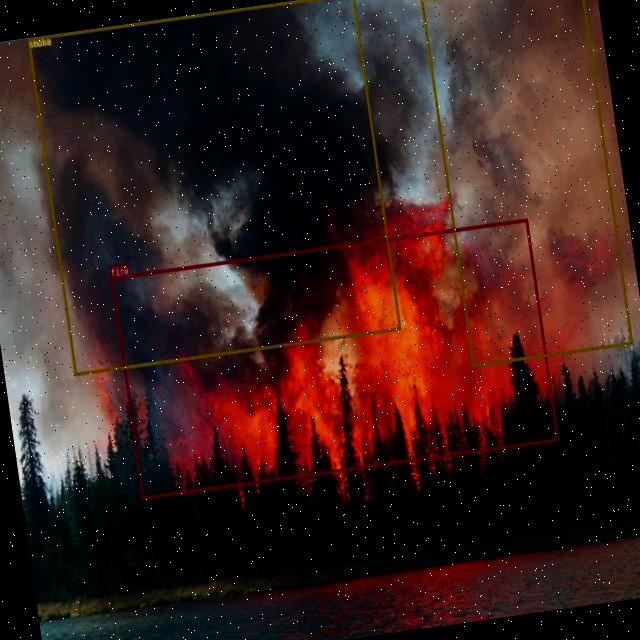fire: (111, 218, 558, 499)
smoke: (27, 0, 400, 374), (419, 0, 632, 367)
